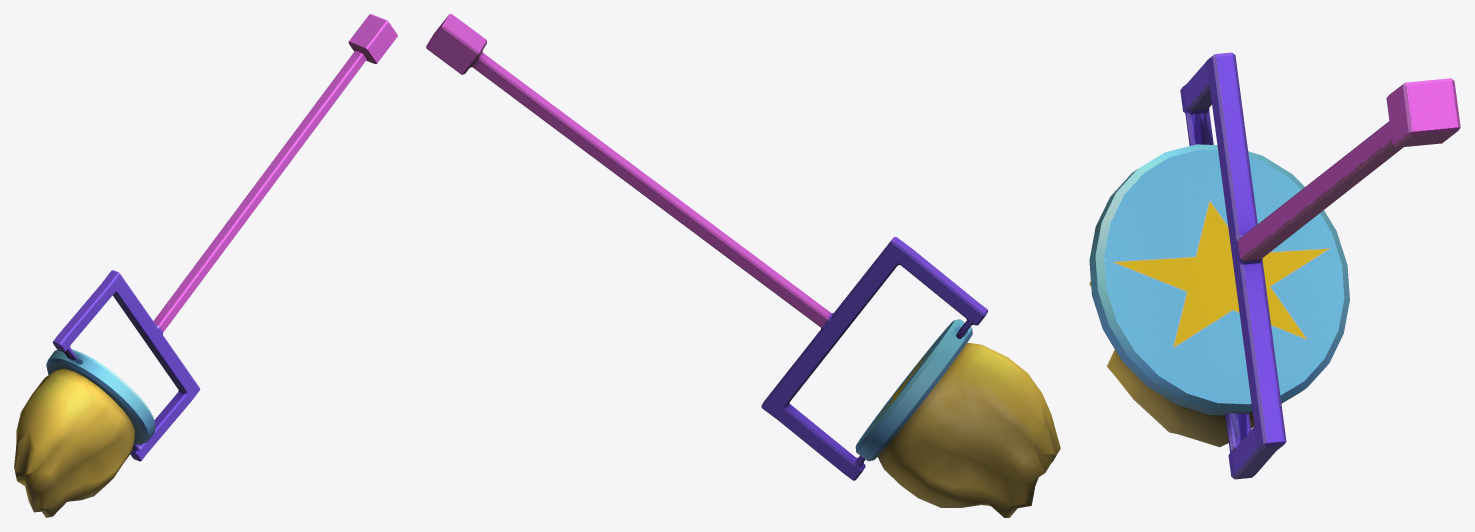
File: new_hammer_grade1.fbx
The picture shows the model from 3 angles, left to right: view 1: azimuth 30°, elevation 25°; view 2: azimuth 150°, elevation 25°; view 3: azimuth 270°, elevation 25°; orthographic projection. The views are drawn at different scales.
Visible parts, largest first — view 1: polySurface24, polySurface23; view 2: polySurface24, polySurface23; view 3: polySurface24, polySurface23.
Boxes of the visible parts, x1,y1,x2,y2 form: polySurface24: (14,349,155,517); polySurface23: (53,14,397,461); polySurface24: (855,319,1060,517); polySurface23: (426,14,987,480); polySurface24: (1089,144,1349,447); polySurface23: (1180,52,1460,479).
Bounding box in the file's own units: 108 × 82.64 × 38.92.
